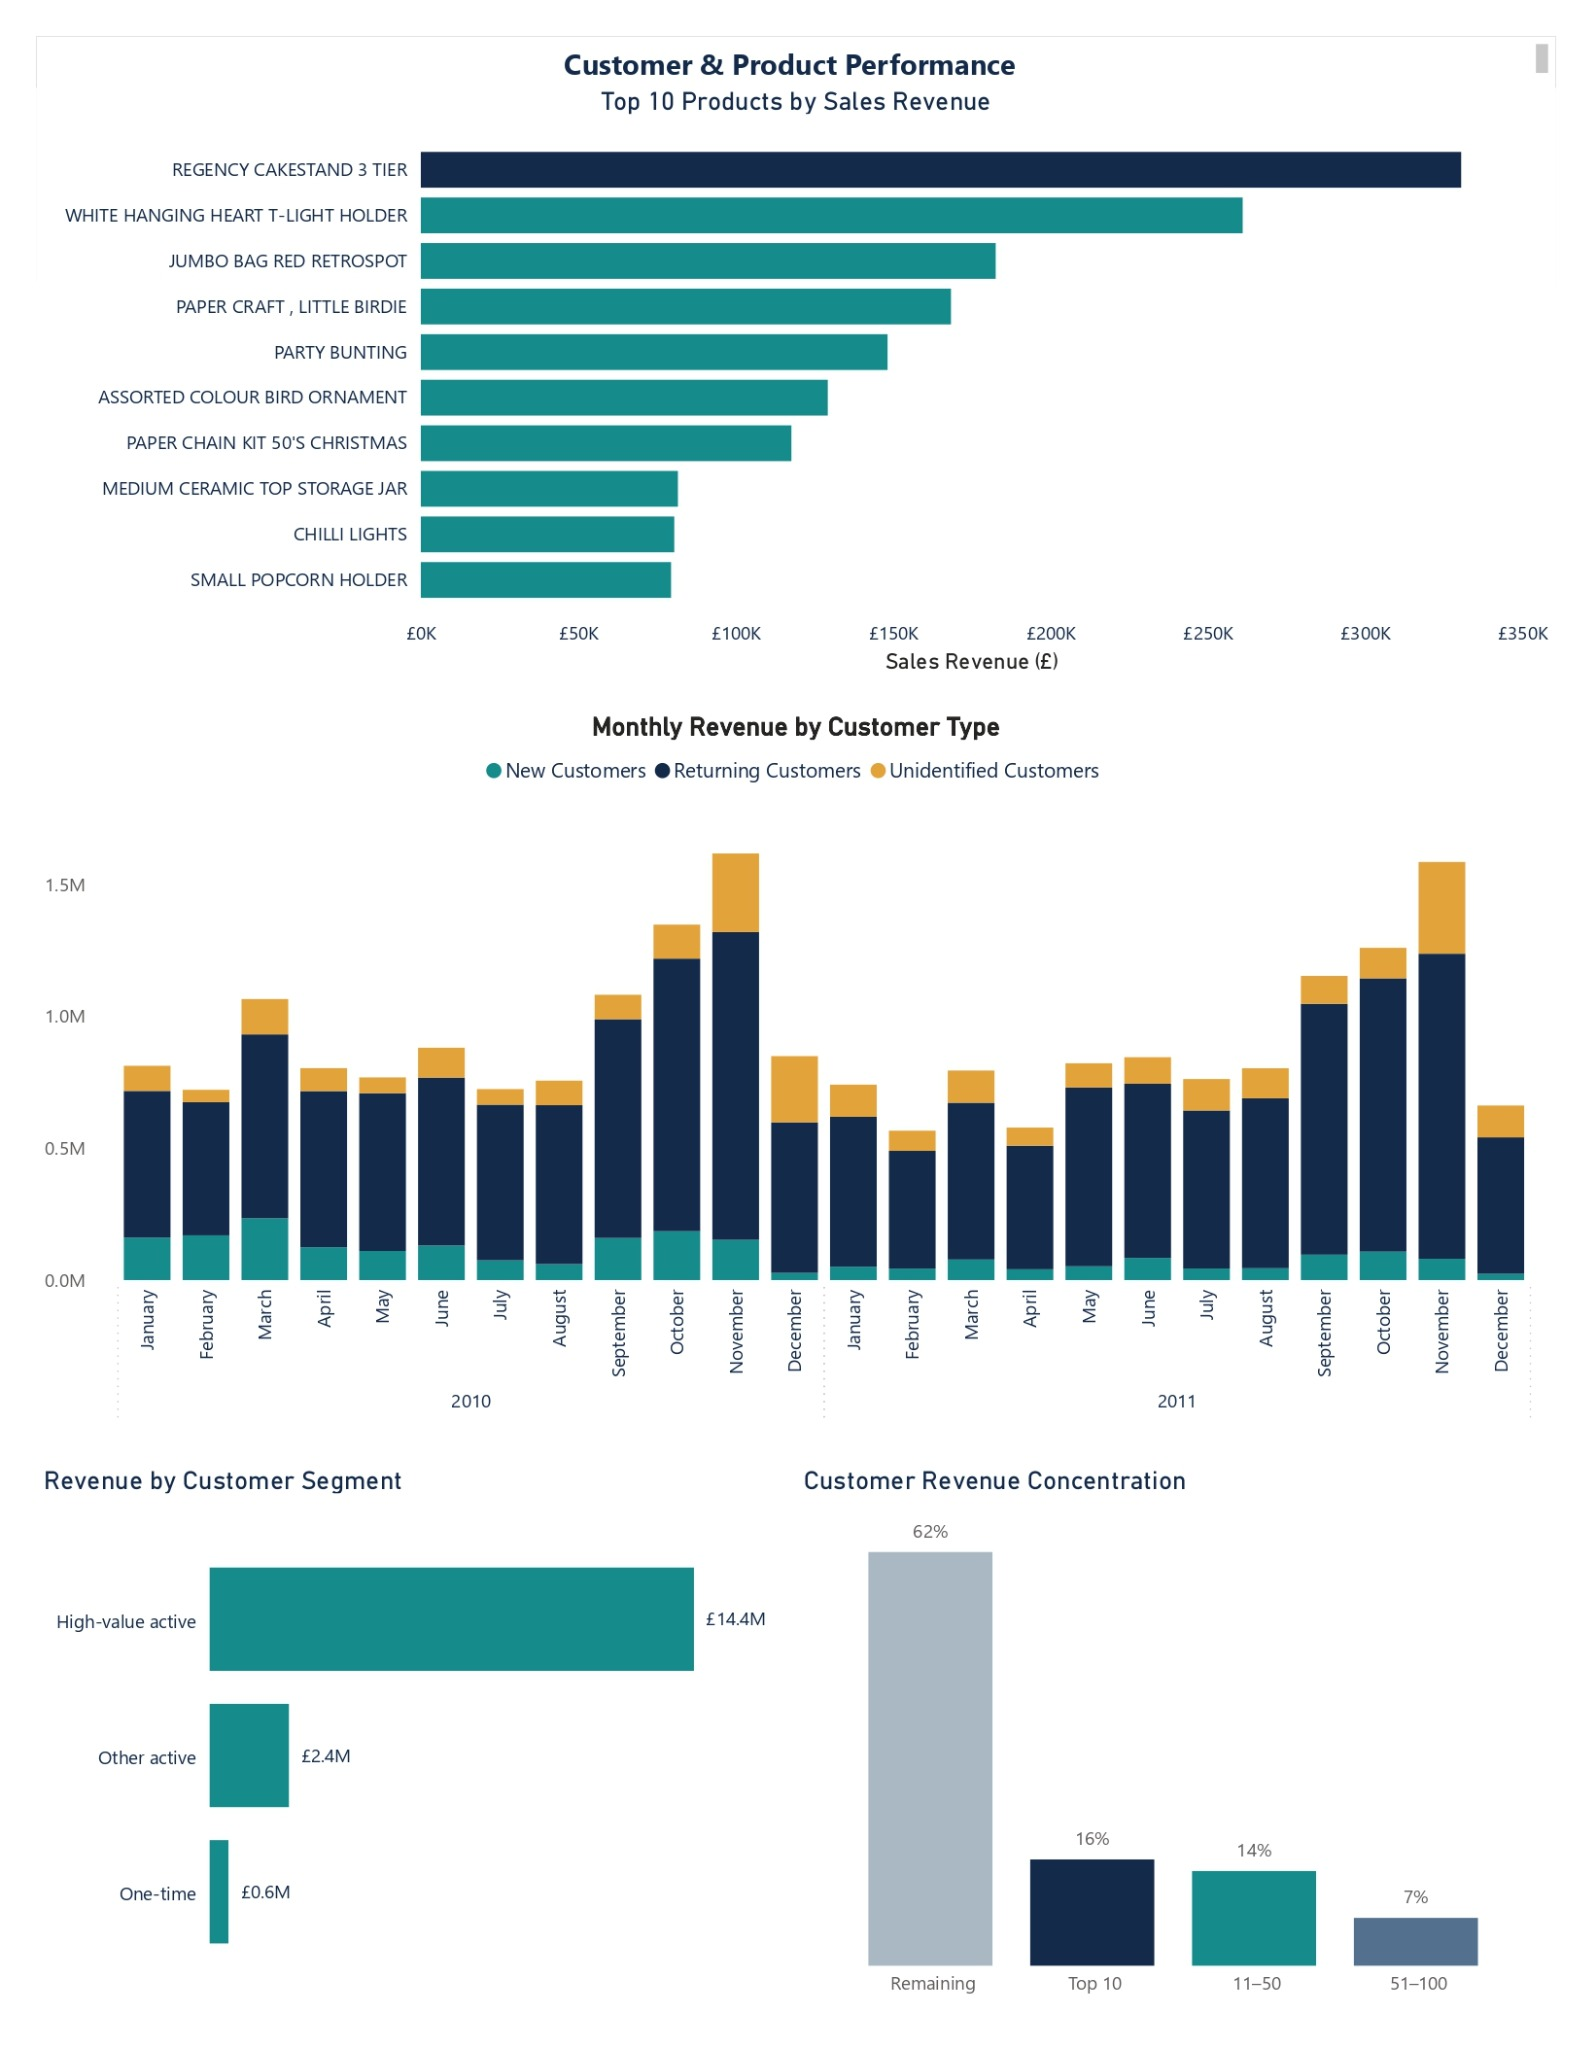

What the dashboard file says about the page in this screenshot:
{"tool":"powerbi","page":{"name":"Customer & Product Performance","canvas":[1000,1300],"ordinal":1},"visuals":[{"type":"clusteredBarChart","title":"Revenue by Customer Segment","fields":{"Y":["Customer_Segments.Revenue by Customer Segment"],"Category":["Customer_Segments.CustomerSegment"]},"box":[0,940,500,360],"z":0},{"type":"columnChart","title":"Monthly Revenue by Customer Type","fields":{"Category":["dim_date.year_month.Variation.Date Hierarchy.Year","dim_date.year_month.Variation.Date Hierarchy.Month"],"Y":["fact_sales.New Customer Revenue","fact_sales.Returning Customer Revenue","fact_sales.Unidentified Customer Revenue"]},"box":[0,444,1000,477],"z":1000},{"type":"clusteredBarChart","title":"Top 10 Products by Sales Revenue","fields":{"Y":["fact_sales.Sales Revenue"],"Category":["dim_product.description"]},"box":[0,32,1000,392],"z":2000},{"type":"columnChart","title":"Customer Revenue Concentration","fields":{"Category":["Customer Concentration Bands.Band"],"Y":["Customer Concentration Bands.Customer Revenue Share by Band"]},"box":[500,940,500,360],"z":3000},{"type":"textbox","box":[0,0,1000,32],"z":3001}]}

Visuals, with their boxes in screenshot pixels (x1, y1, x2, y2), scaled from the page's 1000x1300 canvas onto the 1592x2048 screenshot:
"Revenue by Customer Segment" clusteredBarChart: x1=0 y1=1481 x2=796 y2=2047
"Monthly Revenue by Customer Type" columnChart: x1=0 y1=699 x2=1591 y2=1451
"Top 10 Products by Sales Revenue" clusteredBarChart: x1=0 y1=50 x2=1591 y2=668
"Customer Revenue Concentration" columnChart: x1=796 y1=1481 x2=1591 y2=2047
textbox: x1=0 y1=0 x2=1591 y2=50
